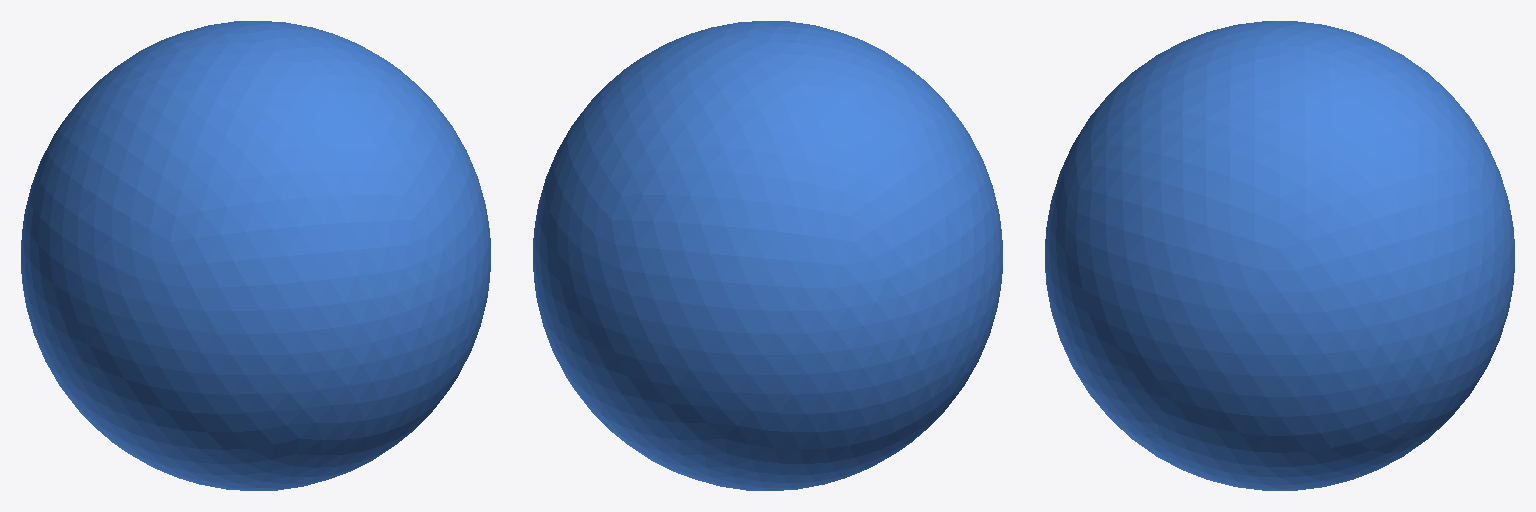
The model's file is Marble.obj.
3 renders of one model, left to right at view 1: azimuth 30°, elevation 25°; view 2: azimuth 150°, elevation 25°; view 3: azimuth 270°, elevation 25°, orthographic.
Parts seen in each view (by area): view 1: Marble; view 2: Marble; view 3: Marble.
Part boxes in pixels (left/top/right/bottom): Marble: left=21, top=21, right=490, bottom=490; Marble: left=533, top=21, right=1002, bottom=490; Marble: left=1045, top=21, right=1514, bottom=490.
Bounding box in the file's own units: 39.92 × 40 × 40.